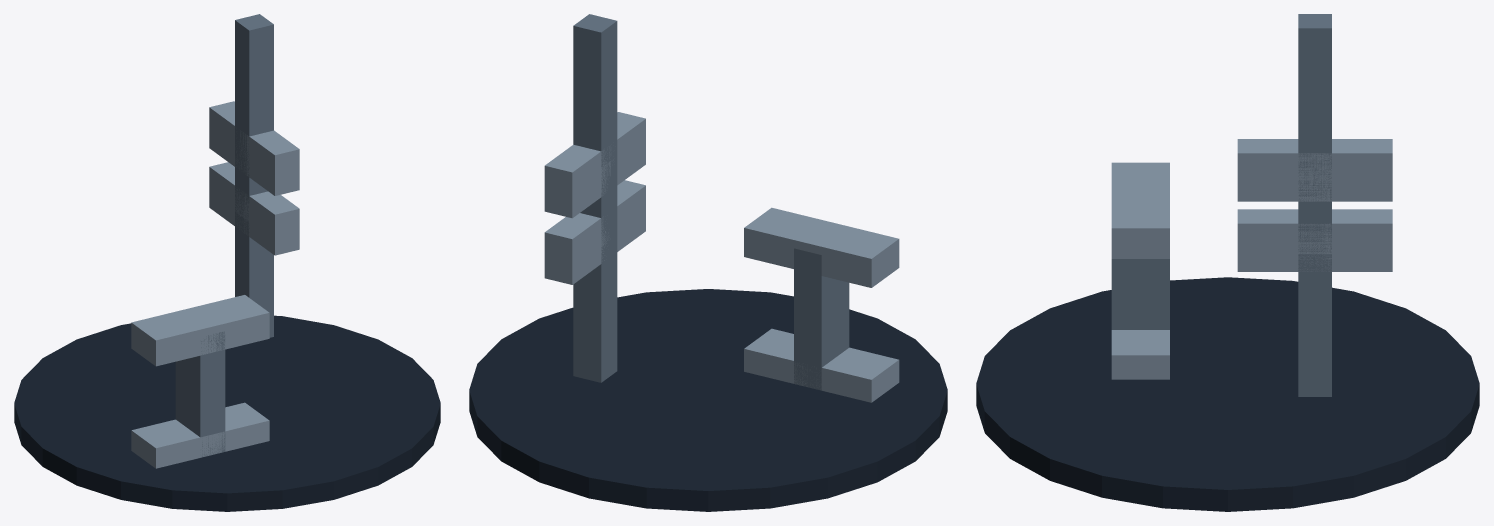
Rendered from goods_steel.glb.
3 views of the same model, side by side, from view 1: azimuth 30°, elevation 25°; view 2: azimuth 150°, elevation 25°; view 3: azimuth 270°, elevation 25° (orthographic). The views are drawn at different scales.
Visible parts, largest first — view 1: pad.001, flange_t, web.001, flange_b, web, web.002, fl2, fl2.001, fl1, fl1.001; view 2: pad.001, web.002, flange_t, web.001, web, flange_b, fl2, fl2.001, fl1.001, fl1; view 3: pad.001, web.002, web.001, fl2, flange_t, fl2.001, fl1.001, web, fl1, flange_b.
Boxes of the visible parts, left/top/right/bottom form: pad.001: left=14, top=315, right=440, bottom=511; flange_t: left=131, top=295, right=269, bottom=366; web.001: left=235, top=80, right=273, bottom=337; flange_b: left=131, top=402, right=269, bottom=468; web: left=175, top=331, right=225, bottom=456; web.002: left=235, top=14, right=273, bottom=279; fl2: left=209, top=162, right=299, bottom=240; fl2.001: left=209, top=101, right=299, bottom=181; fl1: left=209, top=182, right=299, bottom=255; fl1.001: left=209, top=122, right=299, bottom=195; pad.001: left=469, top=289, right=947, bottom=511; web.002: left=573, top=14, right=617, bottom=315; flange_t: left=744, top=207, right=899, bottom=287; web.001: left=573, top=88, right=617, bottom=382; web: left=794, top=248, right=849, bottom=390; flange_b: left=744, top=328, right=899, bottom=402; fl2: left=544, top=180, right=645, bottom=268; fl2.001: left=544, top=112, right=645, bottom=200; fl1.001: left=544, top=135, right=645, bottom=218; fl1: left=544, top=203, right=645, bottom=284; pad.001: left=976, top=277, right=1479, bottom=511; web.002: left=1298, top=14, right=1331, bottom=326; web.001: left=1298, top=98, right=1331, bottom=396; fl2: left=1237, top=209, right=1392, bottom=254; flange_t: left=1111, top=162, right=1169, bottom=258; fl2.001: left=1237, top=139, right=1392, bottom=183; fl1.001: left=1237, top=171, right=1392, bottom=201; web: left=1111, top=259, right=1169, bottom=329; fl1: left=1237, top=241, right=1392, bottom=271; flange_b: left=1111, top=330, right=1169, bottom=379.
Size of the model in its own units: 5.2 by 5.23 by 5.2.
